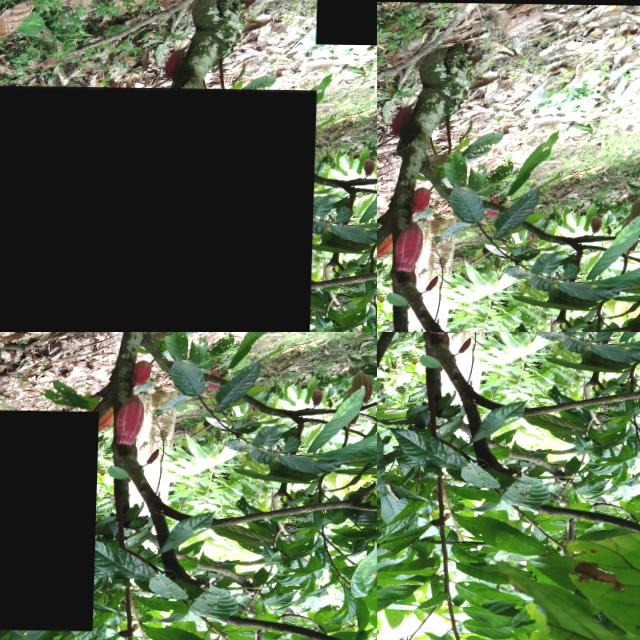Fitoftora: (121, 612, 161, 640)
Monilia: (0, 409, 100, 630), (150, 509, 192, 624), (297, 592, 338, 640)
Sana: (0, 85, 317, 332), (17, 332, 64, 423), (427, 250, 466, 312), (440, 284, 482, 330), (404, 262, 429, 304), (377, 267, 403, 298), (416, 276, 426, 298)
